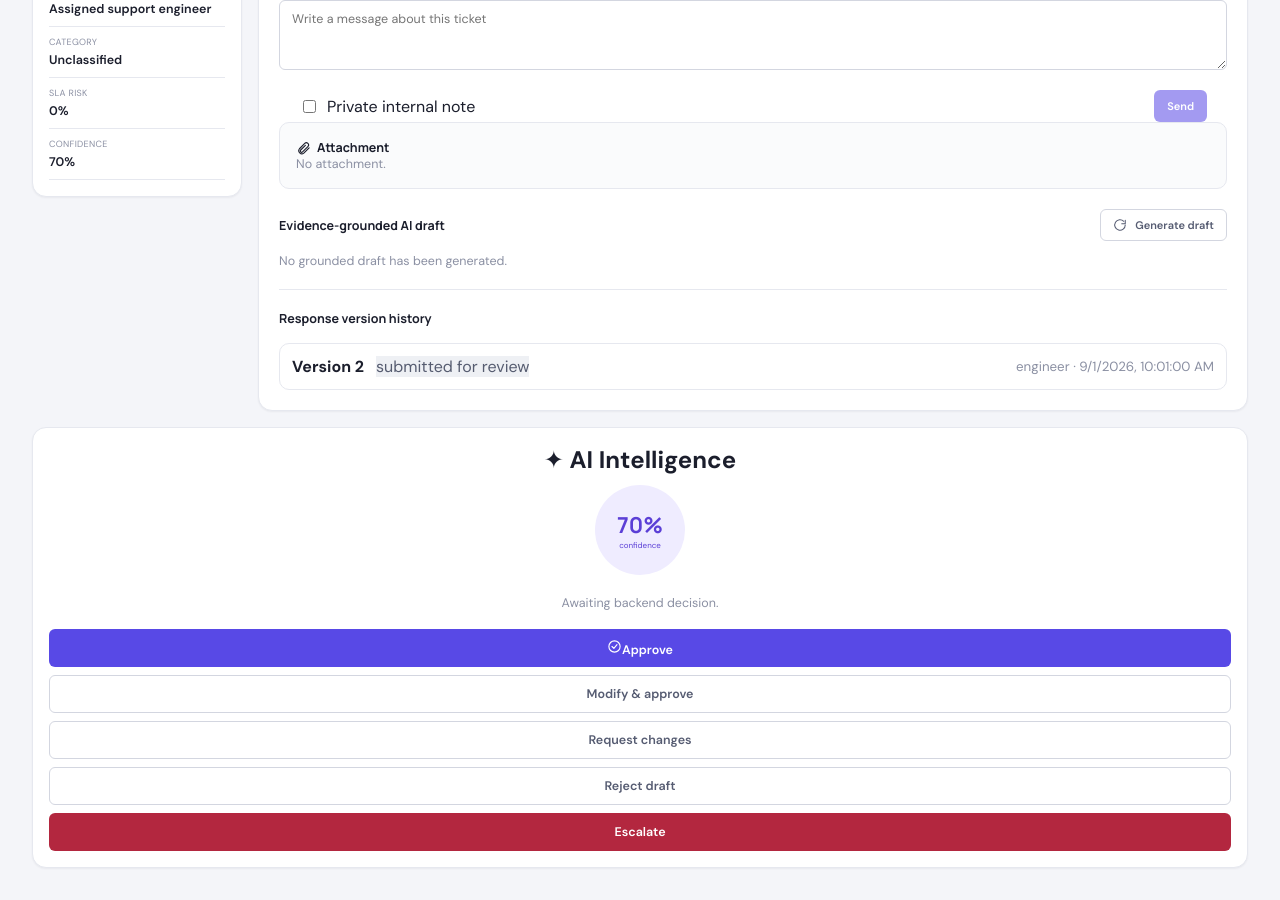
Test case: reviewer approval workflow › does not allow confirming Modify & approve without a review comment
(page scrolled)
Click the button "Modify & approve" at {"x": 640, "y": 694}, box [49,675,1231,713]
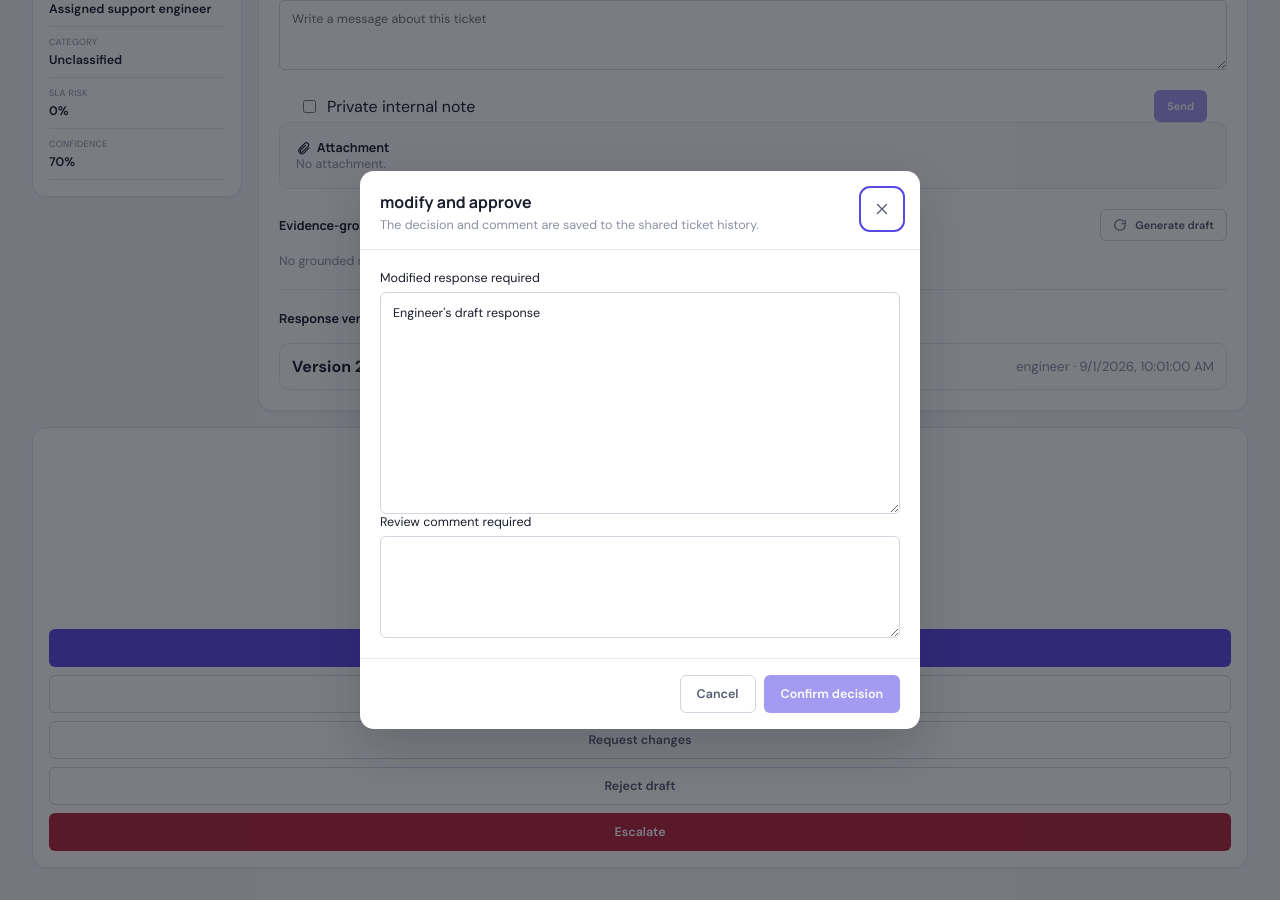
Now the text box labelled "Modified response required" is shown, box [380,292,900,514]
Now the button "Confirm decision" is disabled, box [764,675,900,713]
